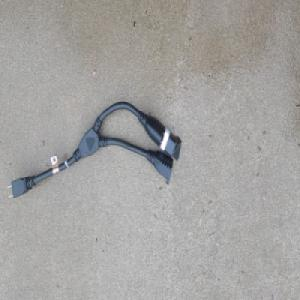Wire: (6, 100, 182, 200)
